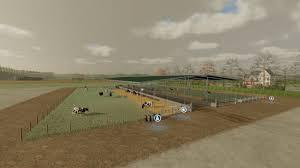cow: (73, 106, 89, 116), (141, 101, 152, 110)
